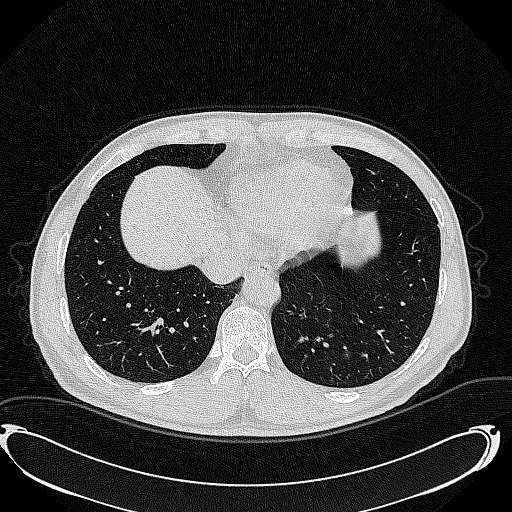nodule: (340, 349, 352, 358)
